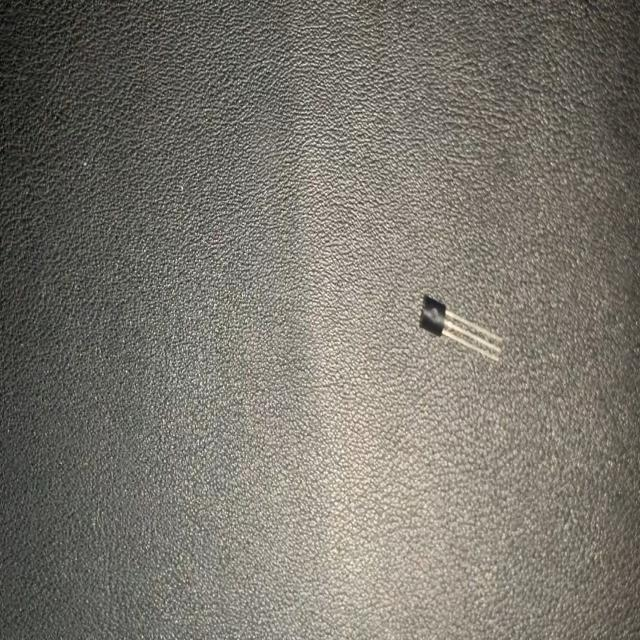BJT: (418, 286, 503, 365)
